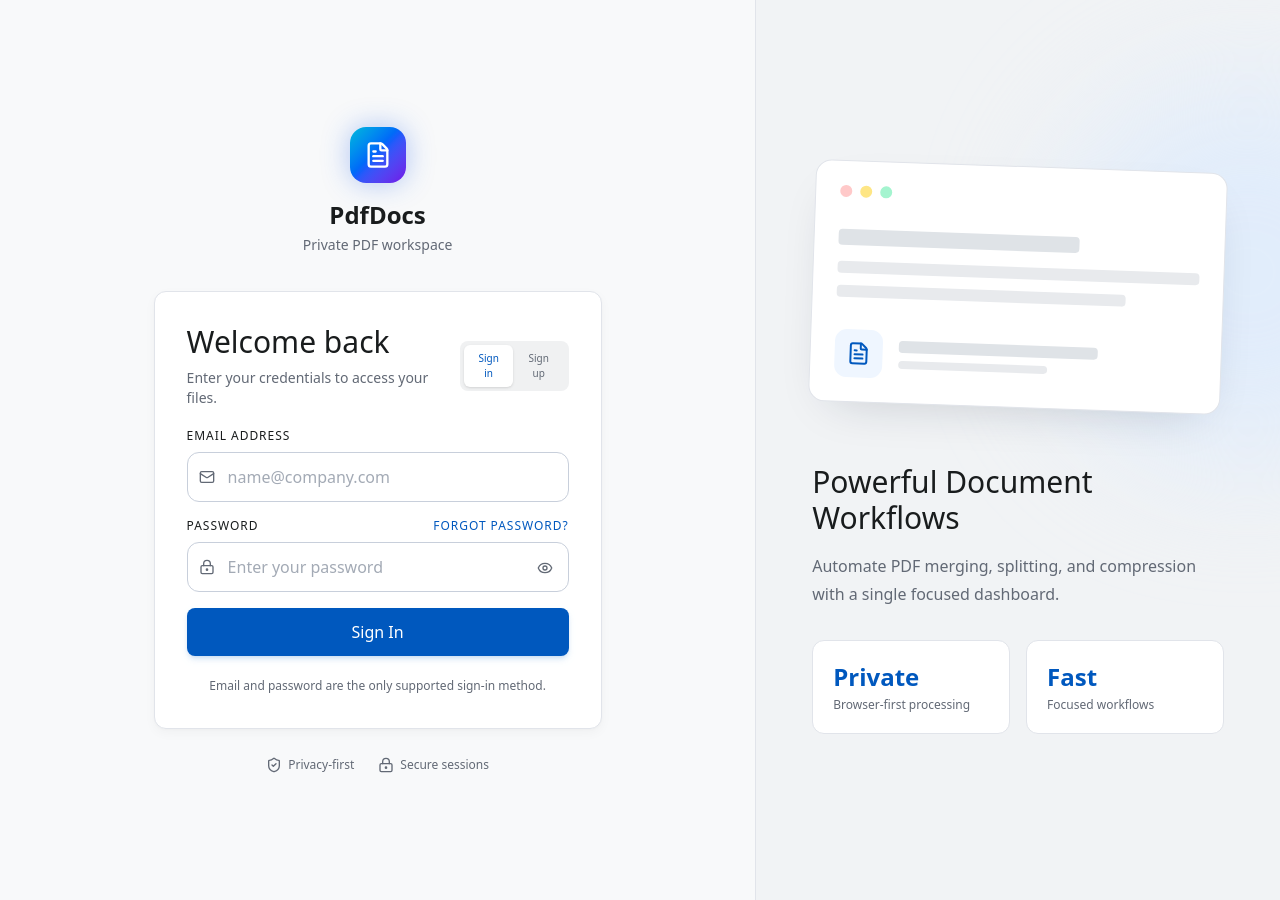
button interactions › switches authentication mode and password visibility
Click the button "Sign up". click: click(539, 366)
box: [513, 345, 565, 387]
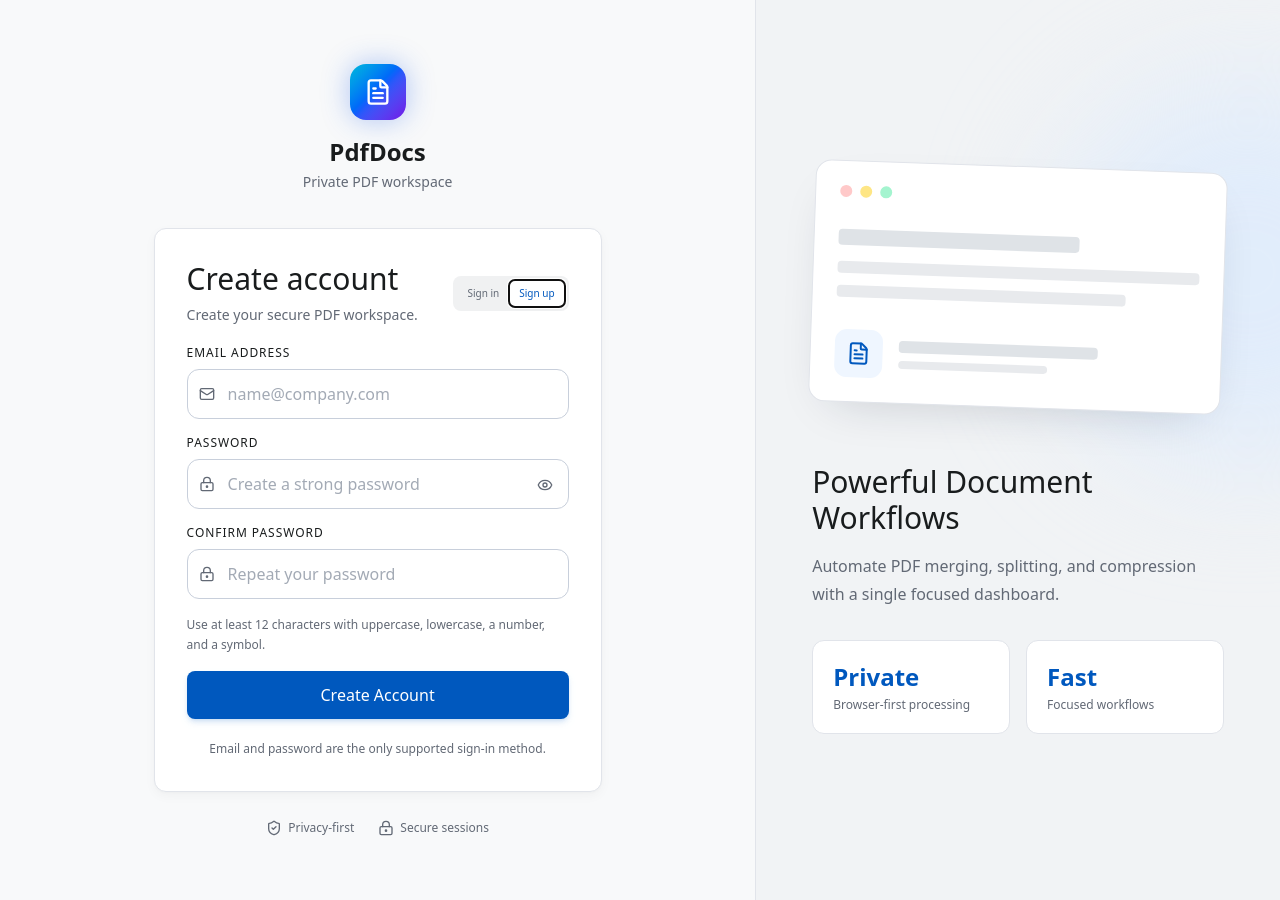
Now the heading "Create account" is shown, box [187, 261, 418, 297]
Type "test-password" into the password field labelled "Password". click: (378, 484)
box: [187, 459, 569, 509]
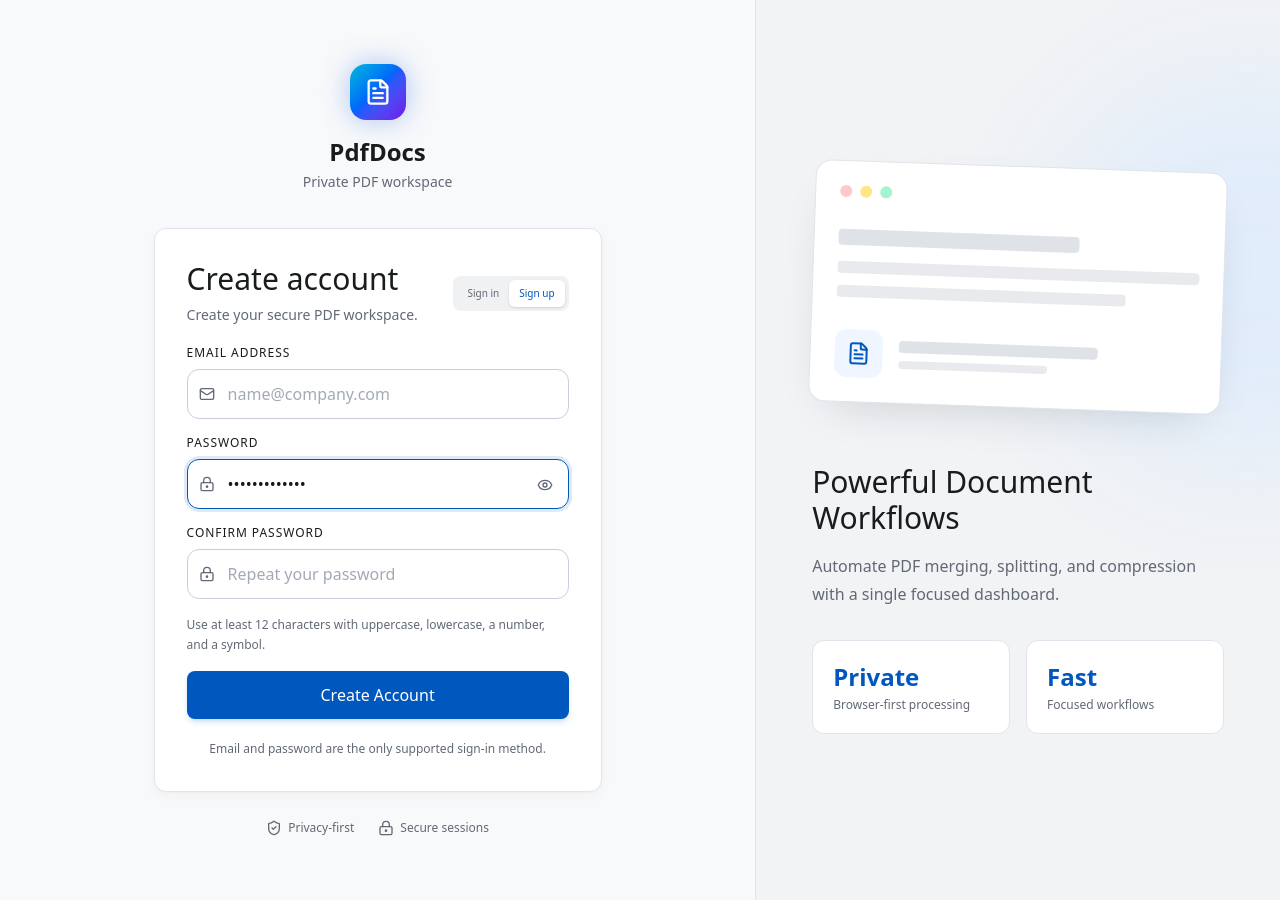
Click the button named "Show password". click: click(545, 485)
box: [525, 465, 565, 505]
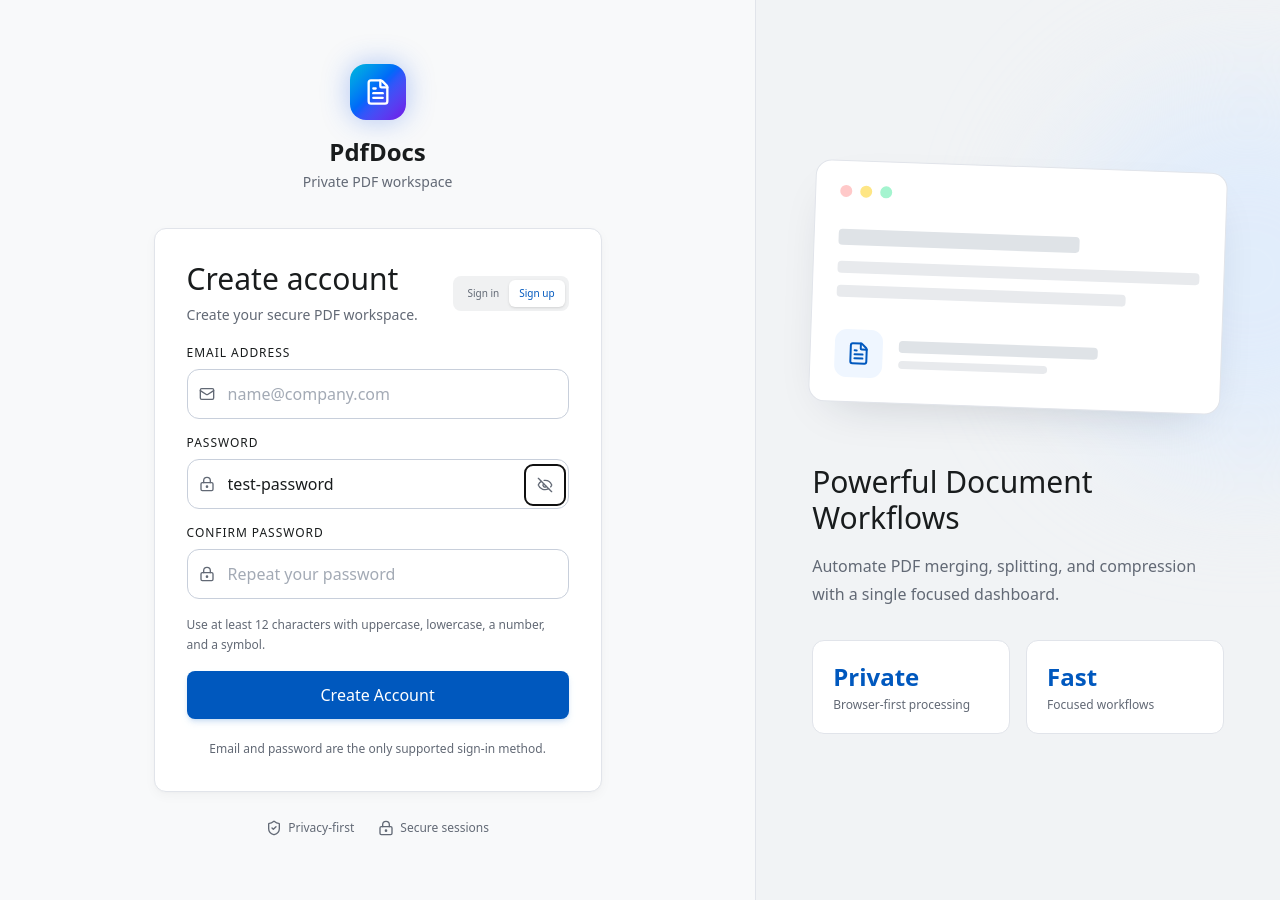
Now the field labelled "Password" shows its text, box [187, 459, 569, 509]
Now the button named "Hide password" is shown, box [525, 465, 565, 505]
Click the button "Sign in". click: click(483, 293)
box: [458, 280, 509, 306]
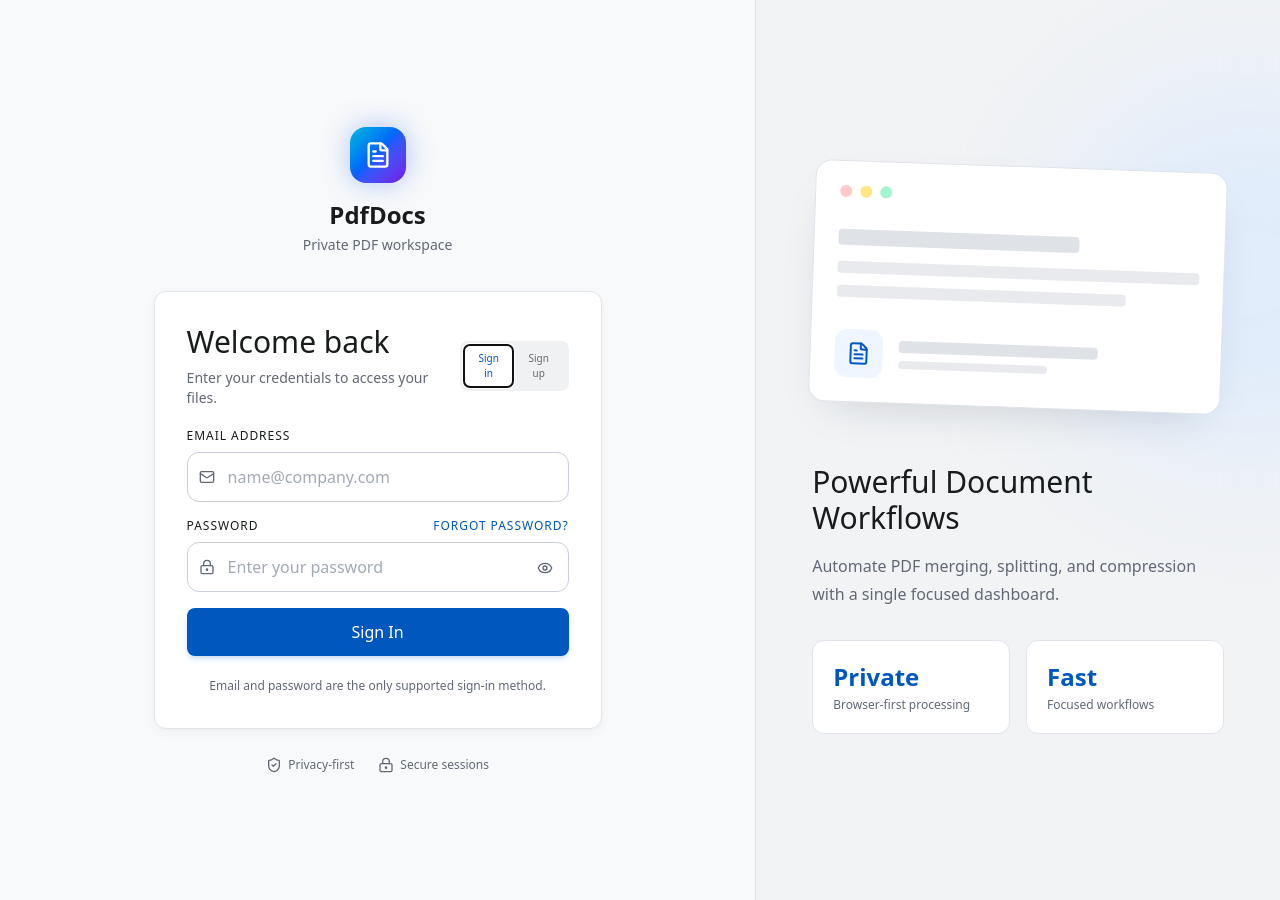
Now the heading "Welcome back" is shown, box [187, 321, 390, 362]
